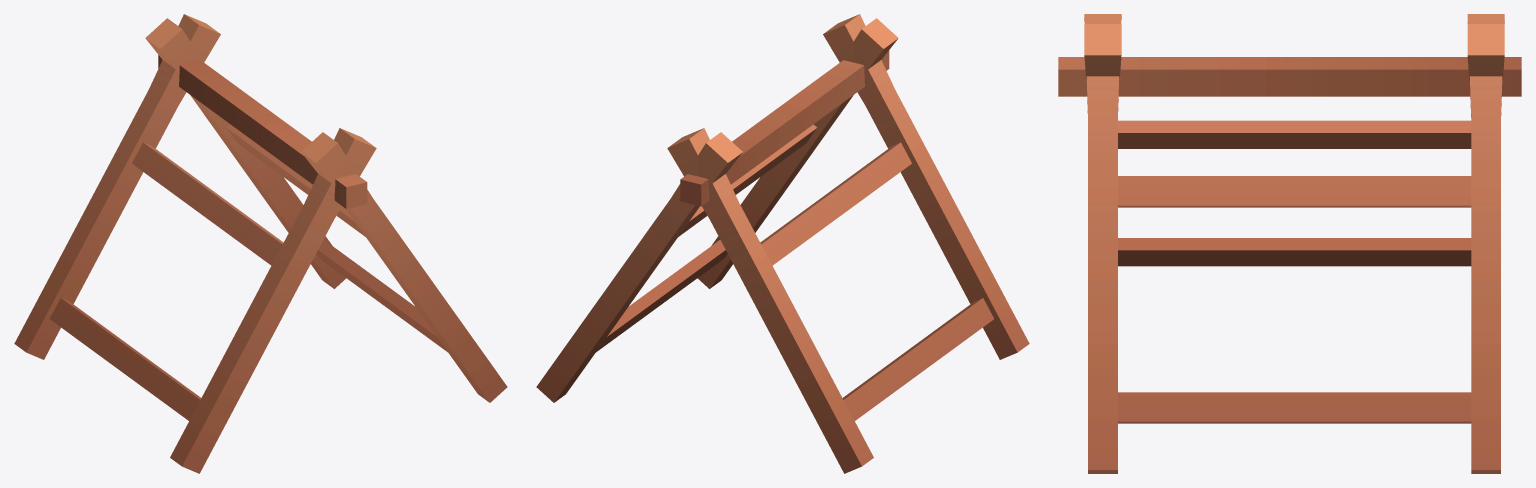
Rendered from tent.glb.
3 renders of one model, left to right at view 1: azimuth 30°, elevation 25°; view 2: azimuth 150°, elevation 25°; view 3: azimuth 270°, elevation 25°, orthographic. The views are drawn at different scales.
Parts seen in each view (by area): view 1: tent; view 2: tent; view 3: tent.
Boxes of the visible parts, box(x1,y1,x2,y2) form: tent: box(14, 14, 507, 473); tent: box(536, 14, 1029, 473); tent: box(1058, 14, 1521, 473).
Size of the model in its own units: 0.5608 by 0.4914 by 0.561.
Materials: 1 (1 with a texture image).
